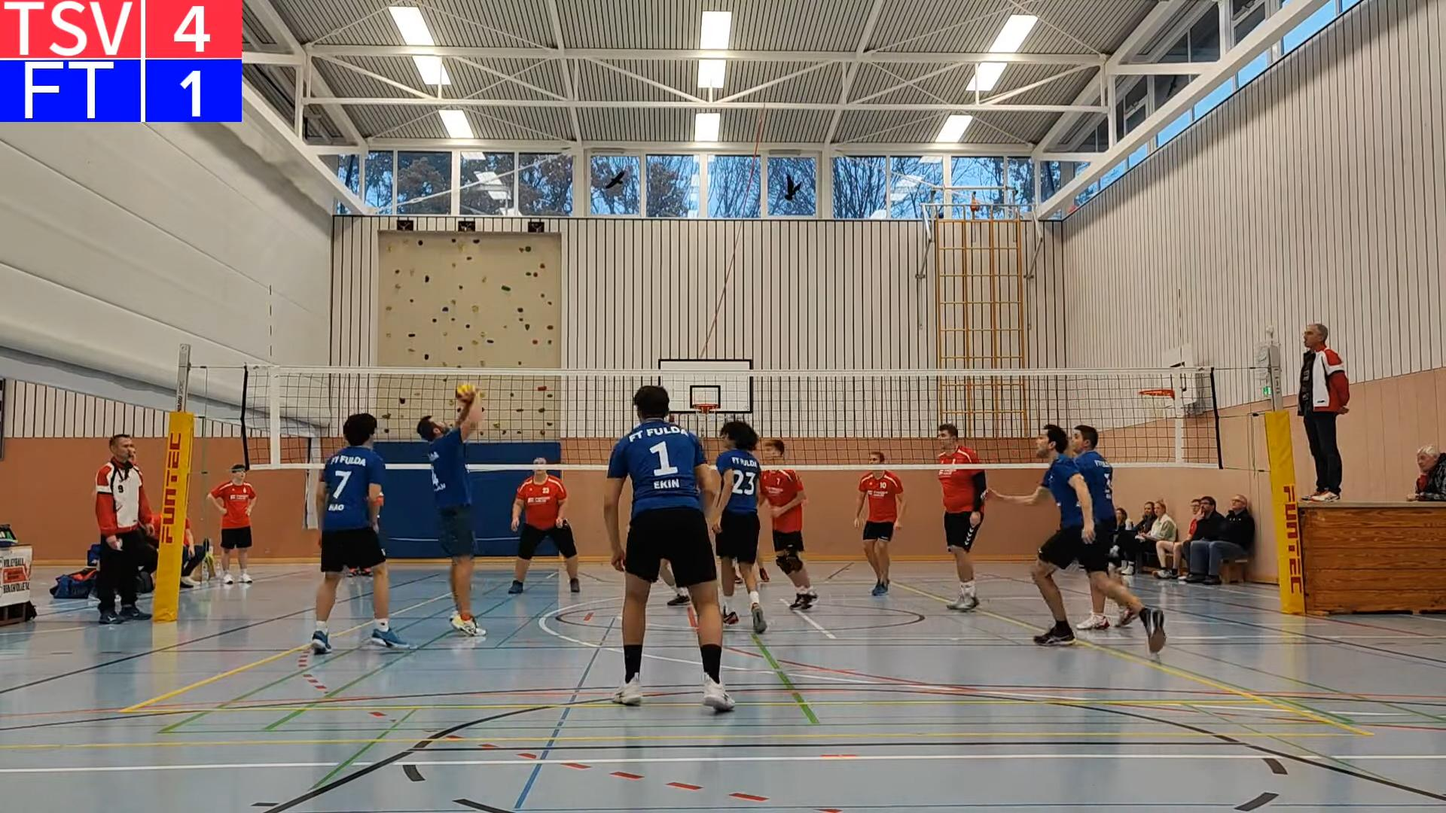alzata: (420, 387, 495, 639)
